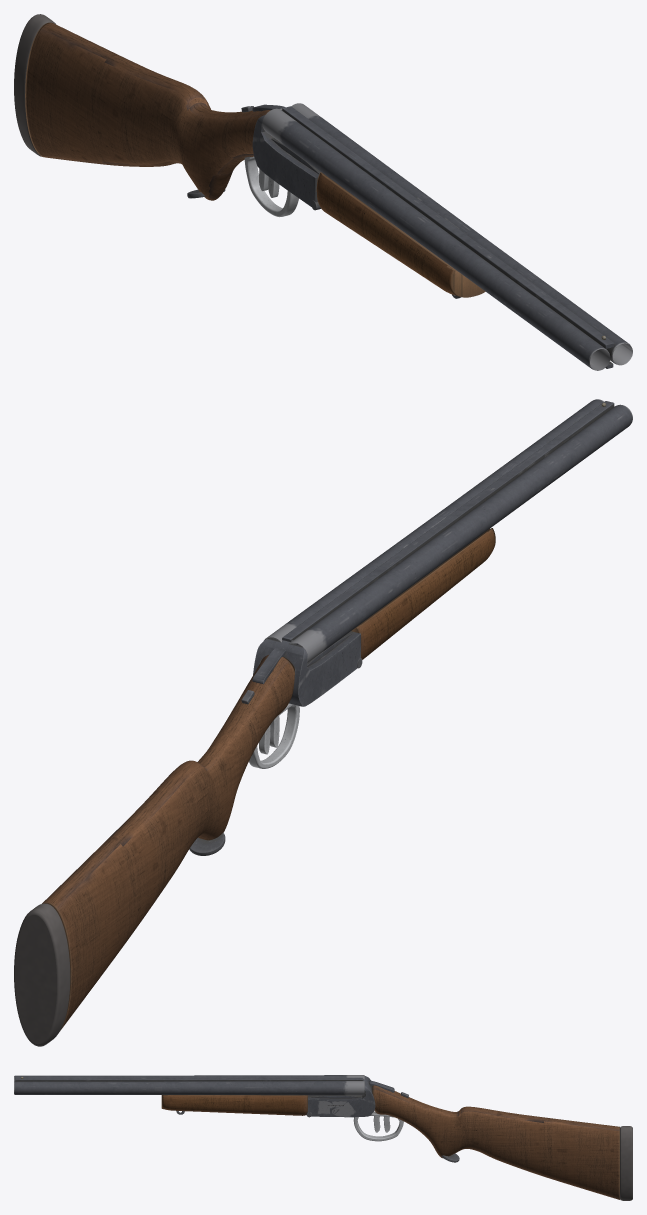
Rendered from double.glb.
The picture shows the model from 3 angles, top to bottom: view 1: azimuth 30°, elevation 25°; view 2: azimuth 150°, elevation 25°; view 3: azimuth 270°, elevation 25°; orthographic projection. The views are drawn at different scales.
Parts seen in each view (by area): view 1: body, moving; view 2: body, moving; view 3: body, moving.
Part boxes in pixels (x1=…): body: x1=14, y1=14, x2=321, y2=217; moving: x1=262, y1=103, x2=632, y2=370; body: x1=14, y1=631, x2=362, y2=1046; moving: x1=264, y1=399, x2=632, y2=666; body: x1=306, y1=1076, x2=632, y2=1200; moving: x1=14, y1=1075, x2=364, y2=1115.
Size of the model in its own units: 0.046 by 0.2015 by 0.9152.
Materials: 5 (5 with a texture image).
